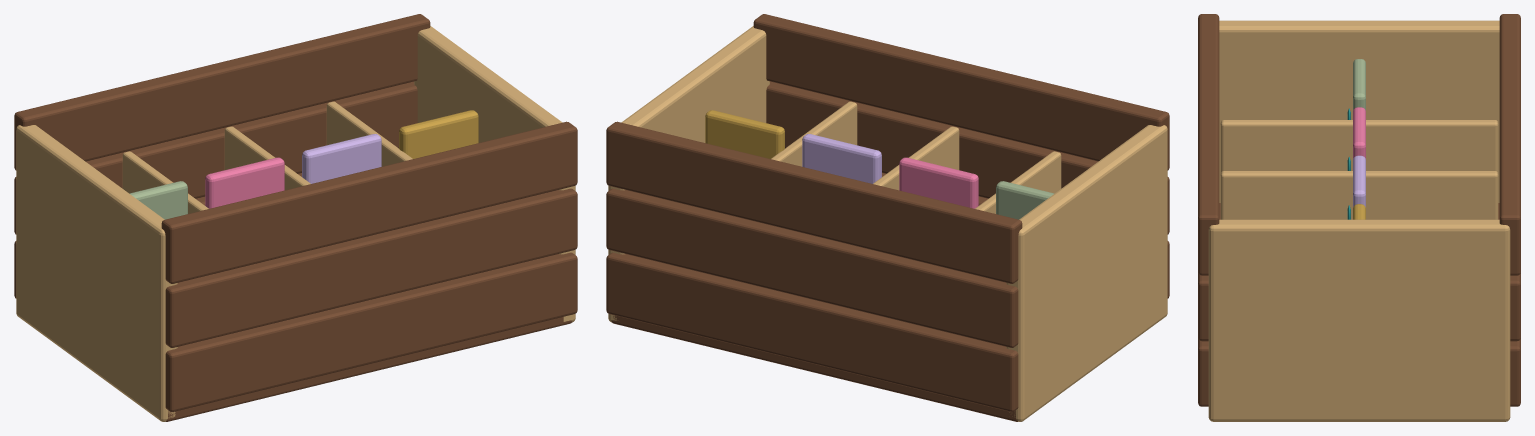
File: seed_crate.glb
The picture shows the model from 3 angles, left to right: view 1: azimuth 30°, elevation 25°; view 2: azimuth 150°, elevation 25°; view 3: azimuth 270°, elevation 25°; orthographic projection. The views are drawn at different scales.
Visible parts, largest first — view 1: End, Slat.005, Slat.004, Slat.003, Slat.002, Slat.001, End.001, Base, Seed_packet.001, Seed_packet.002, Seed_packet.003, Divider.002 (+3 smaller); view 2: End, Slat.002, Slat.001, Slat, Slat.005, Slat.004, End.001, Base, Seed_packet.001, Seed_packet.002, Seed_packet.003, Divider.002 (+3 smaller); view 3: End.001, End, Divider, Divider.001, Slat.002, Slat.005, Slat.001, Slat.004, Slat, Slat.003, Seed_packet.002, Seed_packet (+1 smaller).
Part boxes in pixels (<box>): End: <box>16,125,177,421</box>; Slat.005: <box>161,121,577,283</box>; Slat.004: <box>165,188,577,347</box>; Slat.003: <box>165,252,577,411</box>; Slat.002: <box>14,14,430,170</box>; Slat.001: <box>14,81,417,234</box>; End.001: <box>414,26,575,322</box>; Base: <box>165,317,572,421</box>; Seed_packet.001: <box>205,157,284,208</box>; Seed_packet.002: <box>302,134,381,183</box>; Seed_packet.003: <box>399,110,478,158</box>; Divider.002: <box>326,101,412,166</box>; End: <box>1006,125,1167,421</box>; Slat.002: <box>606,121,1022,283</box>; Slat.001: <box>606,188,1018,347</box>; Slat: <box>606,252,1018,411</box>; Slat.005: <box>753,14,1169,170</box>; Slat.004: <box>766,81,1169,234</box>; End.001: <box>608,26,769,322</box>; Base: <box>611,315,1018,421</box>; Seed_packet.001: <box>899,157,978,208</box>; Seed_packet.002: <box>802,134,881,183</box>; Seed_packet.003: <box>705,110,784,158</box>; Divider.002: <box>771,101,857,166</box>; End.001: <box>1208,219,1510,421</box>; End: <box>1219,20,1499,202</box>; Divider: <box>1220,120,1498,173</box>; Divider.001: <box>1220,171,1498,219</box>; Slat.002: <box>1499,14,1520,275</box>; Slat.005: <box>1198,14,1219,275</box>; Slat.001: <box>1510,272,1520,341</box>; Slat.004: <box>1198,272,1208,341</box>; Slat: <box>1510,338,1520,406</box>; Slat.003: <box>1198,338,1208,406</box>; Seed_packet.002: <box>1353,155,1365,207</box>; Seed_packet: <box>1353,59,1365,110</box>.
Bounding box in the file's own units: 0.815 × 0.375 × 0.535.
